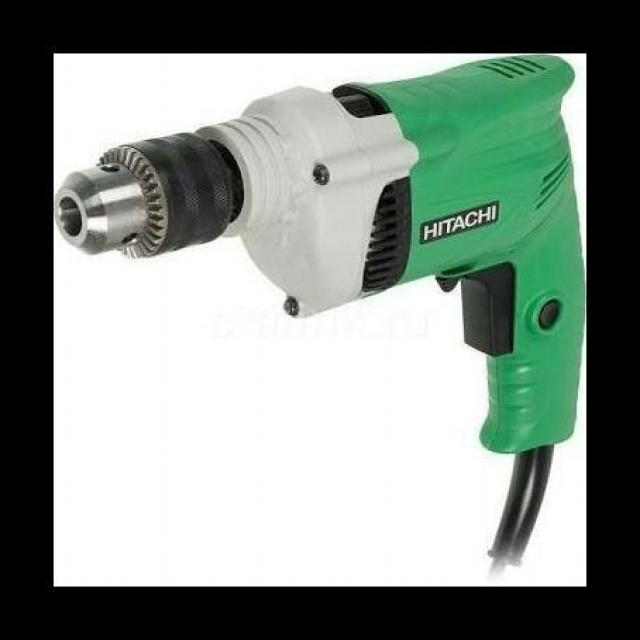drill: (54, 54, 587, 571)
